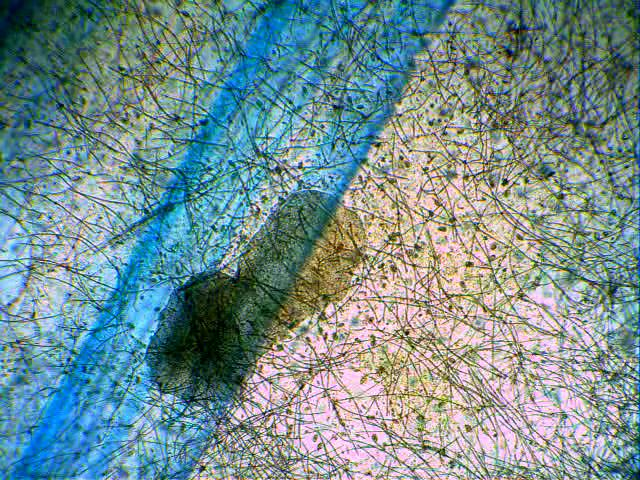Placozoan: (222, 191, 370, 384), (144, 272, 241, 394)
